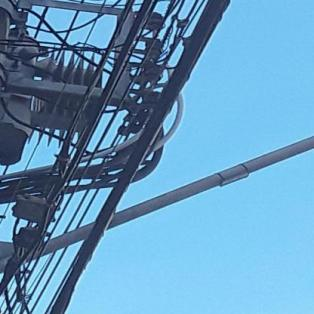Poste: (0, 0, 74, 314)
